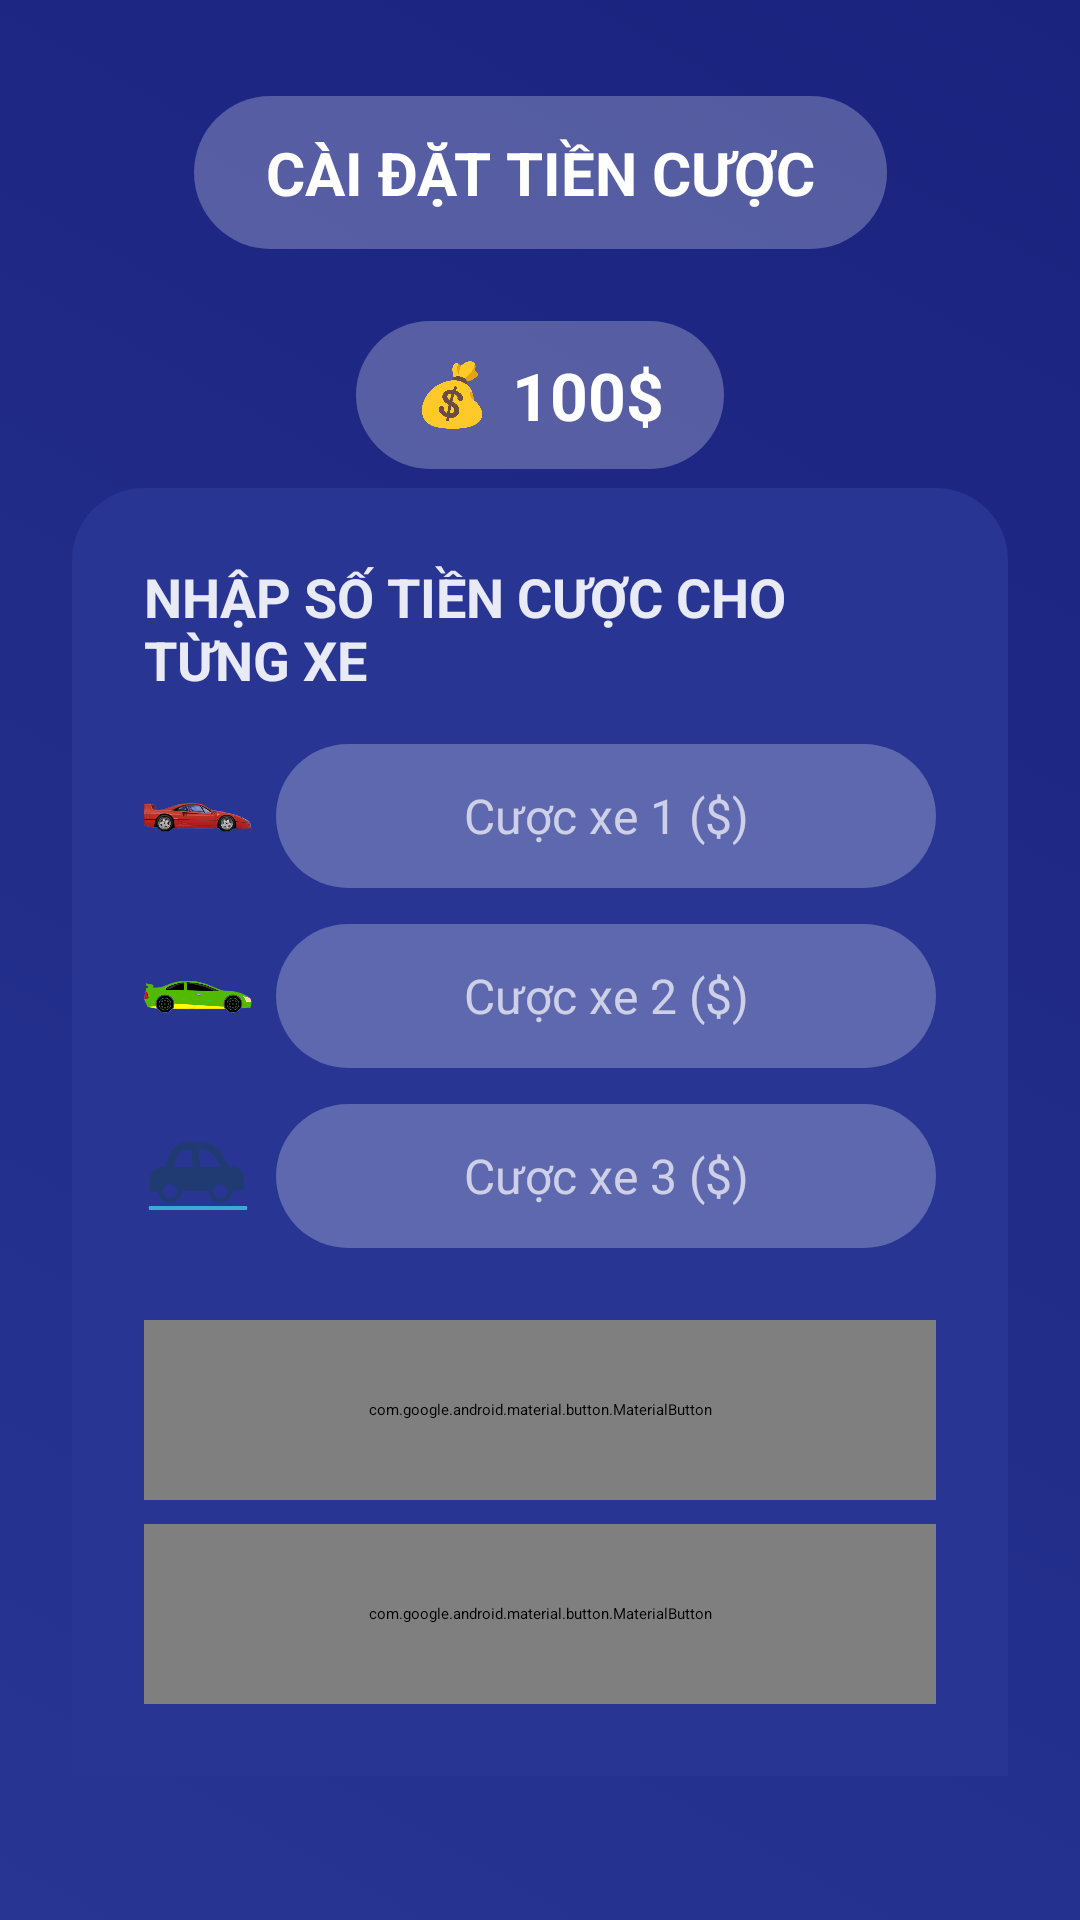

Named icons in this screenshot (1080×1920) and their centers, point (x, y):
car: point (198, 817), point (198, 997), point (198, 1176)
money bag: point (452, 395)
